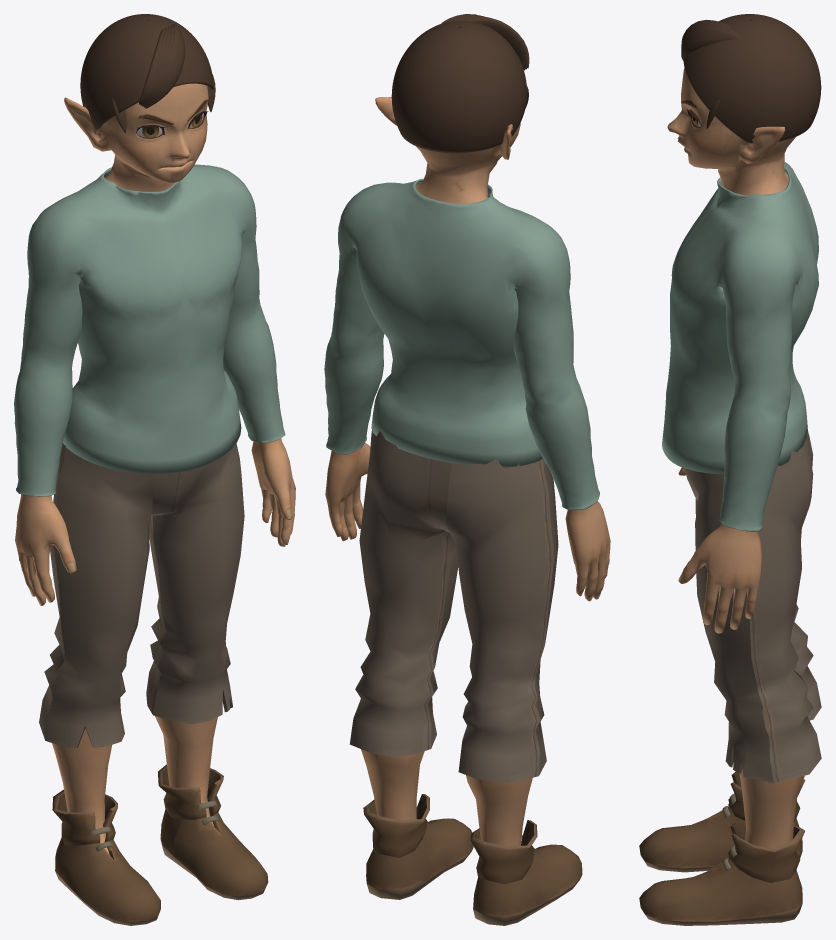
The model's file is boy-medium.glb.
3 renders of one model, left to right at view 1: azimuth 30°, elevation 25°; view 2: azimuth 150°, elevation 25°; view 3: azimuth 270°, elevation 25°, orthographic.
Parts seen in each view (by area): view 1: boy • Plain shirt • neutral sage, boy • Pant_043__Mt_Lower_043, boy • continuous skin, Hair • short • fitted crown, Hair • short • side sweep 0, Hair • short • side sweep 4; view 2: boy • Pant_043__Mt_Lower_043, boy • Plain shirt • neutral sage, boy • continuous skin, Hair • short • fitted crown, Hair • short • side sweep 4; view 3: boy • Plain shirt • neutral sage, boy • Pant_043__Mt_Lower_043, boy • continuous skin, Hair • short • fitted crown, Hair • short • side sweep 0.
Part boxes in pixels (box(x1,y1,x2,y2)): boy • Plain shirt • neutral sage: box(14, 164, 285, 496); boy • Pant_043__Mt_Lower_043: box(39, 443, 268, 925); boy • continuous skin: box(15, 83, 295, 854); Hair • short • fitted crown: box(80, 14, 213, 129); Hair • short • side sweep 0: box(145, 24, 185, 108); Hair • short • side sweep 4: box(139, 28, 165, 104); boy • Pant_043__Mt_Lower_043: box(349, 429, 582, 925); boy • Plain shirt • neutral sage: box(324, 178, 599, 509); boy • continuous skin: box(325, 97, 610, 845); Hair • short • fitted crown: box(391, 21, 526, 153); Hair • short • side sweep 4: box(461, 17, 529, 68); boy • Plain shirt • neutral sage: box(662, 162, 818, 531); boy • Pant_043__Mt_Lower_043: box(639, 431, 821, 925); boy • continuous skin: box(667, 68, 804, 849); Hair • short • fitted crown: box(683, 14, 821, 143); Hair • short • side sweep 0: box(681, 27, 739, 61).
Size of the model in its own units: 0.5778 by 1.76 by 0.3363.
Materials: 11 (8 with a texture image).
